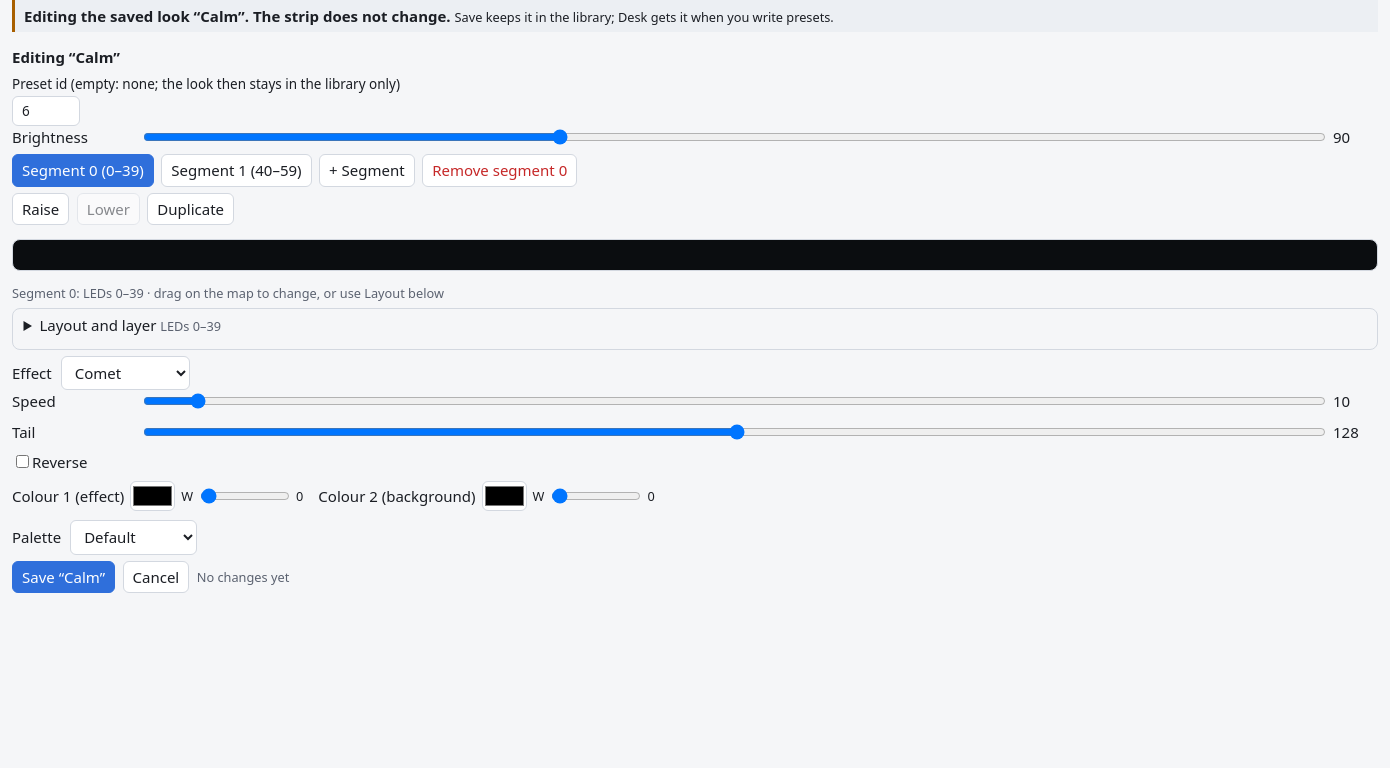
it: the editor says the strip does not change, and Cancel asks first when there are changes
This screenshot has width=1390, height=768.
Later steps or results of the test are not shown.
Check: the text "Editing the saved look “Calm”. The strip does not change." is shown, box [24,6,451,26]
Check: the text "Desk gets it when you write presets" is shown, box [454,8,834,26]
Set the slider named "Look brightness" to "200" at (1065,137), box [143,128,1326,146]
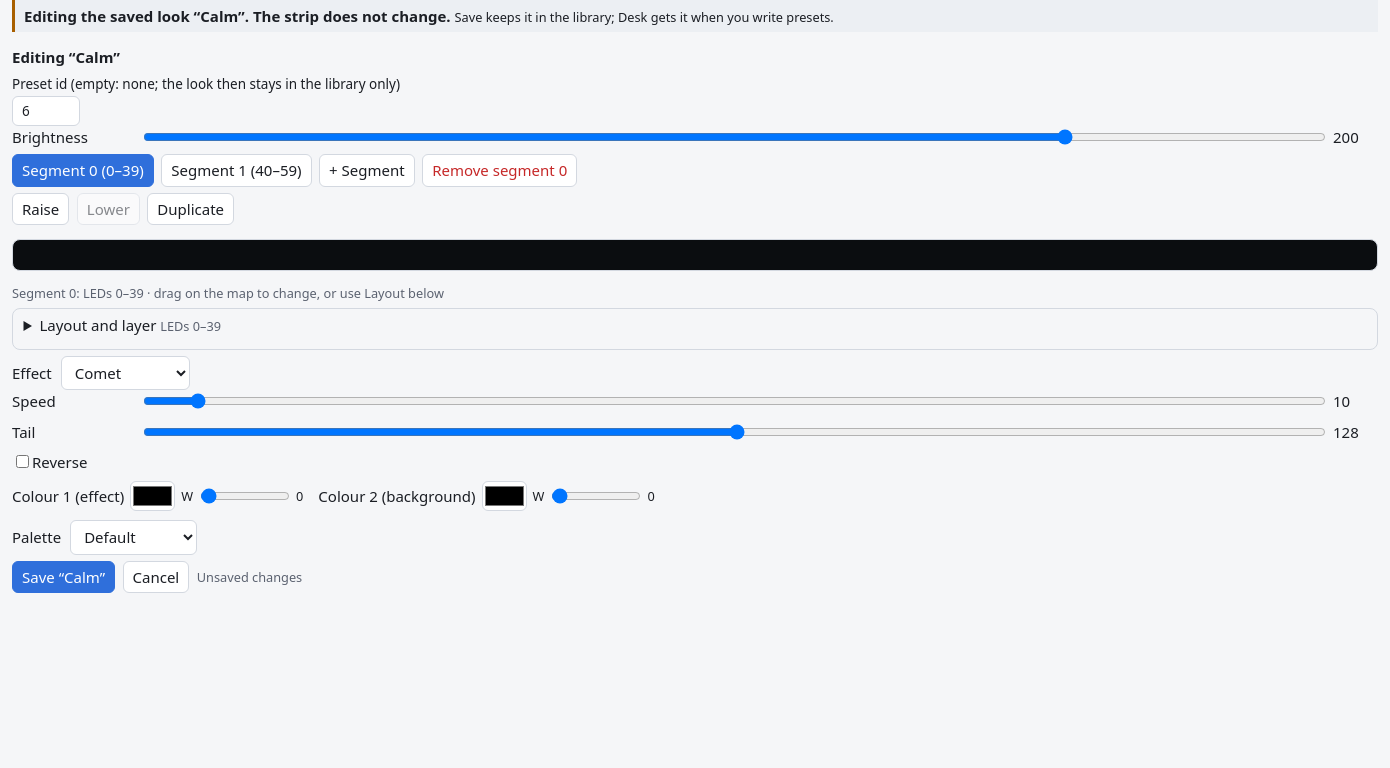
Check: the text "Unsaved changes" is shown, box [197,568,302,586]
Click the button "Cancel" at (156,577), box [122,560,189,593]
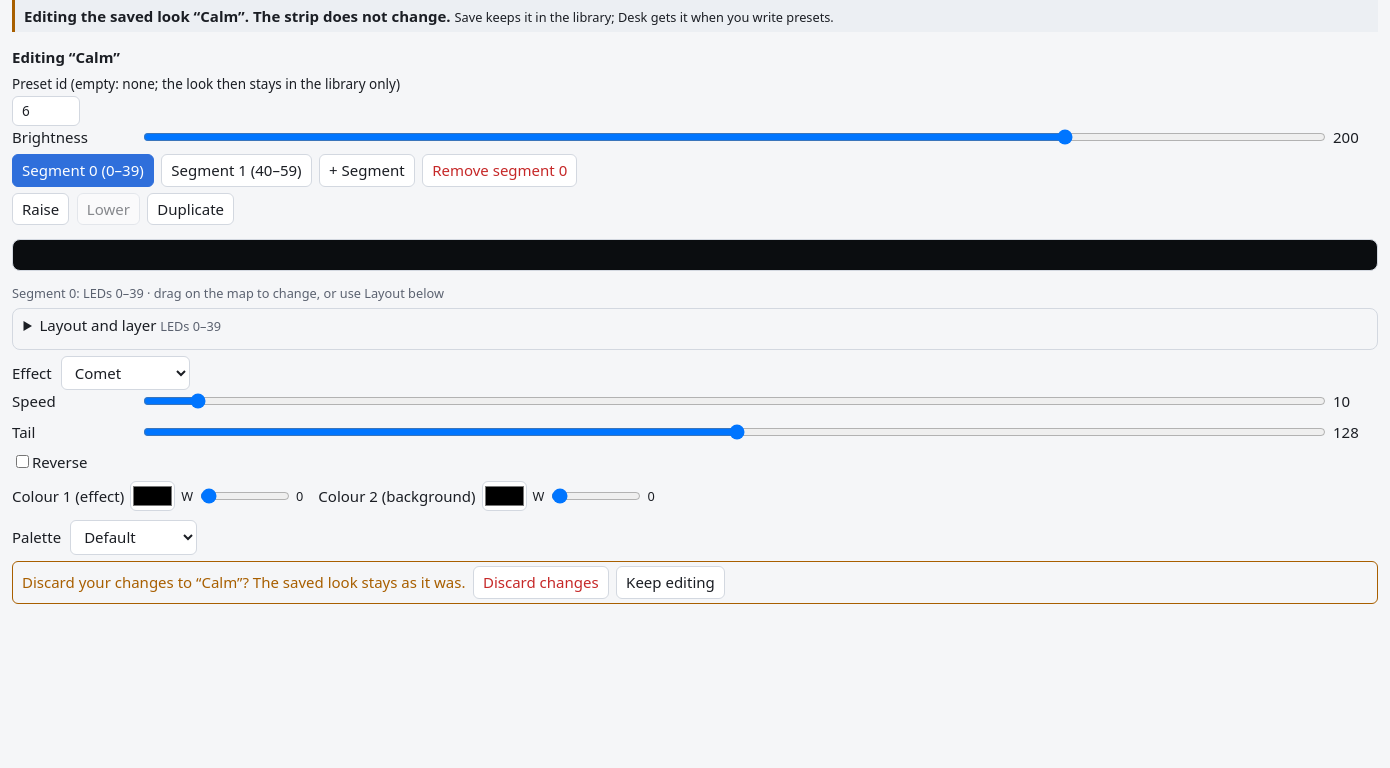
Check: the text "Discard your changes to “Calm”?" is shown, box [22,572,465,592]
Click the button "Keep editing" at (670,582), box [616,566,725,598]
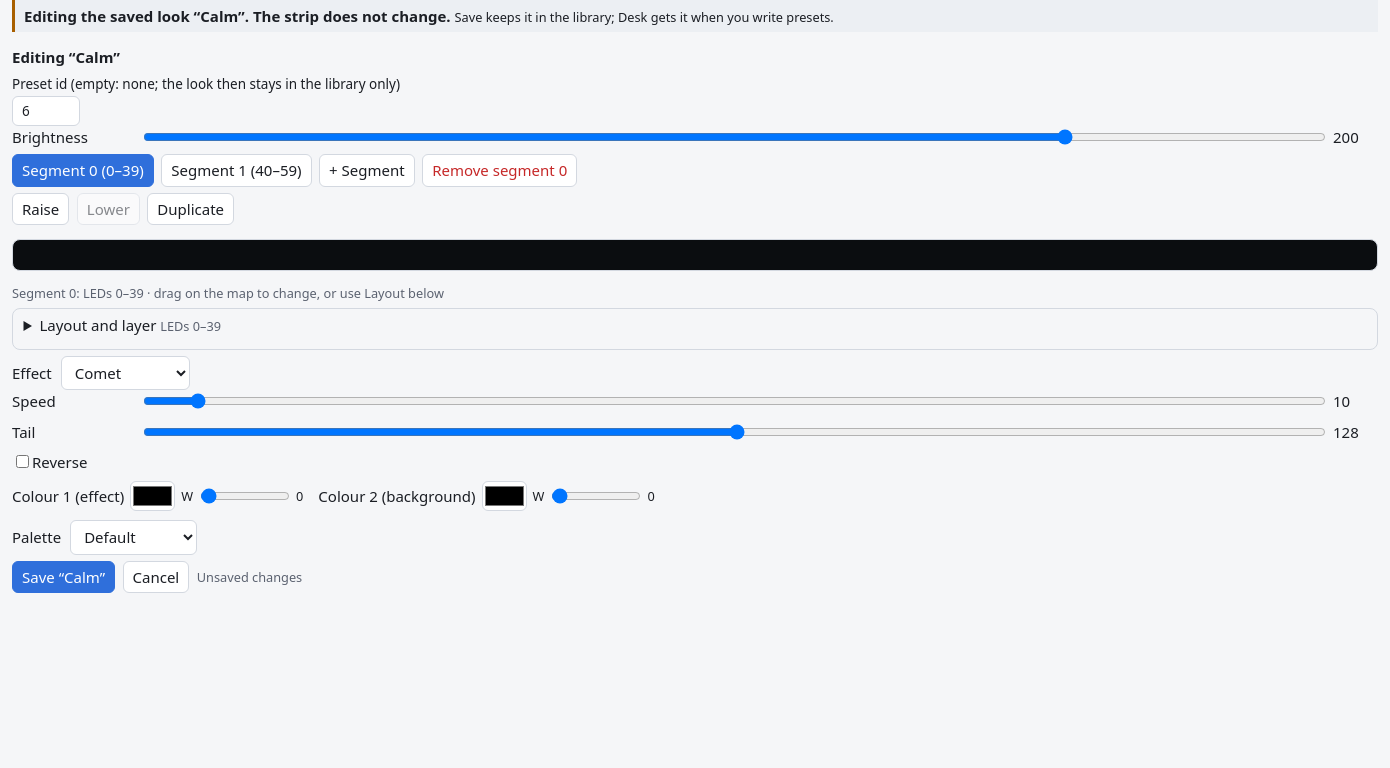
Check: the button "Save “Calm”" is shown, box [12,560,115,593]
